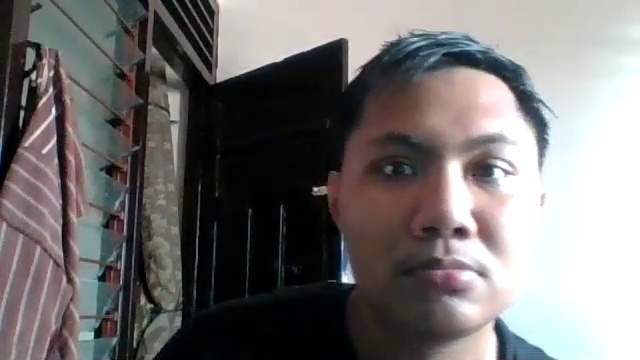Not Distracted: (332, 81, 544, 337)
